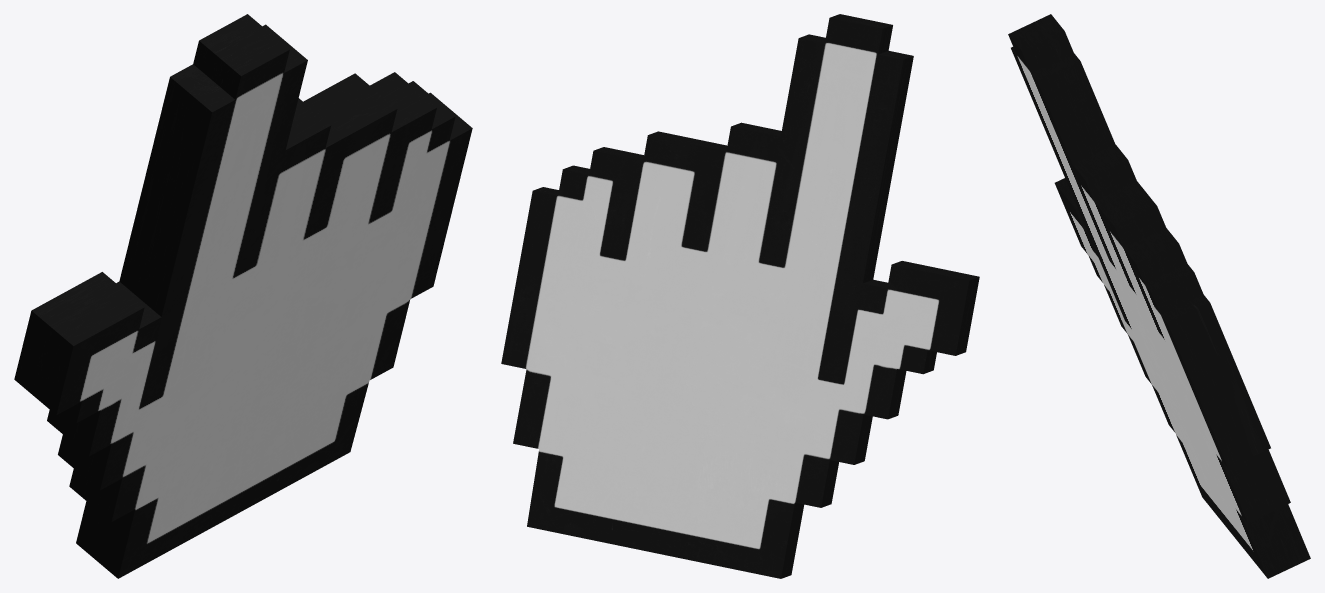
Rendered from Cursor_Hand.glb.
3 views of the same model, side by side, from view 1: azimuth 30°, elevation 25°; view 2: azimuth 150°, elevation 25°; view 3: azimuth 270°, elevation 25° (orthographic). The views are drawn at different scales.
Visible parts, largest first — view 1: CursorHand_CursorHand_0; view 2: CursorHand_CursorHand_0; view 3: CursorHand_CursorHand_0.
Part boxes in pixels (x1,y1,x2,y2): CursorHand_CursorHand_0: [14, 14, 472, 578]; CursorHand_CursorHand_0: [501, 14, 979, 578]; CursorHand_CursorHand_0: [1008, 14, 1310, 578].
Bounding box in the file's own units: 0.1085 × 0.1321 × 0.0753.
Materials: 1 (1 with a texture image).
